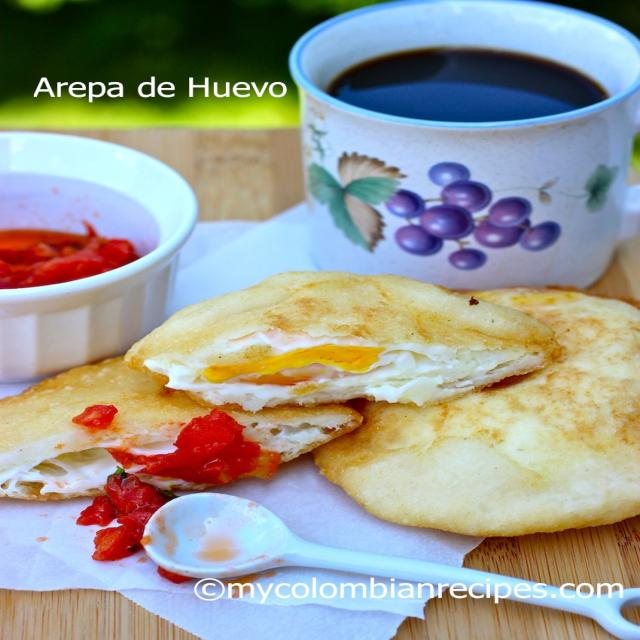arepa: (155, 270, 542, 360)
